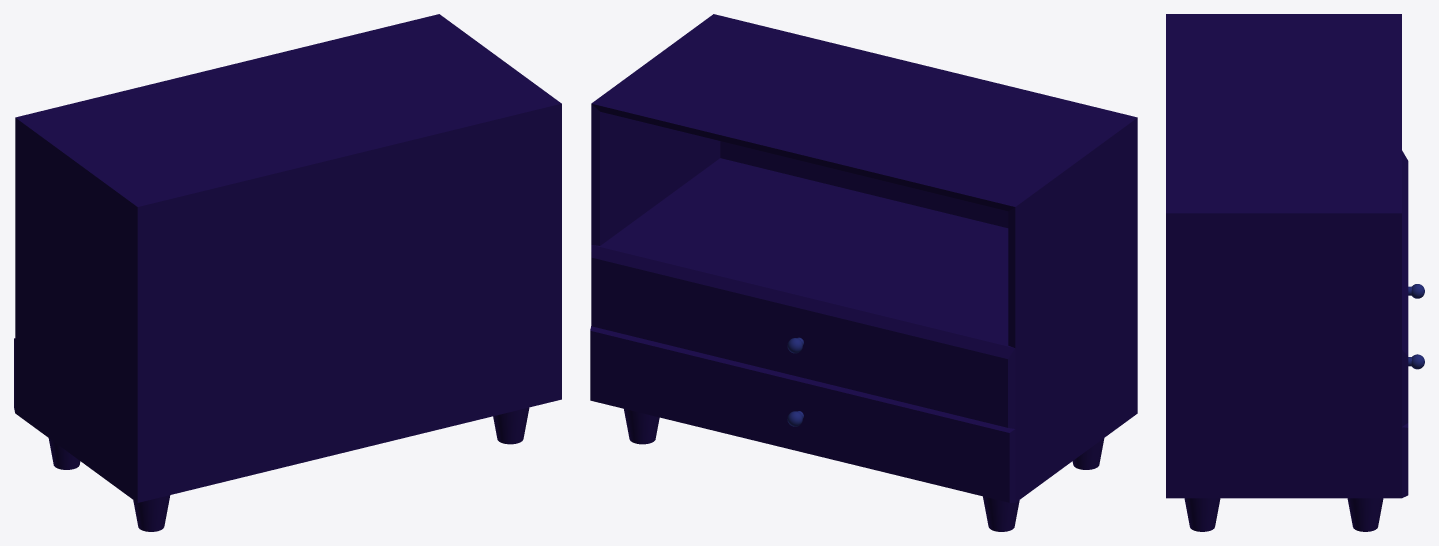
File: Kommode.fbx
3 views of the same model, side by side, from view 1: azimuth 30°, elevation 25°; view 2: azimuth 150°, elevation 25°; view 3: azimuth 270°, elevation 25° (orthographic). The views are drawn at different scales.
Visible parts, largest first — view 1: pCylinder5; view 2: pCylinder5; view 3: pCylinder5.
Boxes of the visible parts, x1,y1,x2,y2 form: pCylinder5: (14,14,561,531); pCylinder5: (590,14,1137,531); pCylinder5: (1166,14,1408,531).
Size of the model in its own units: 4.24 by 3.26 by 2.33.
